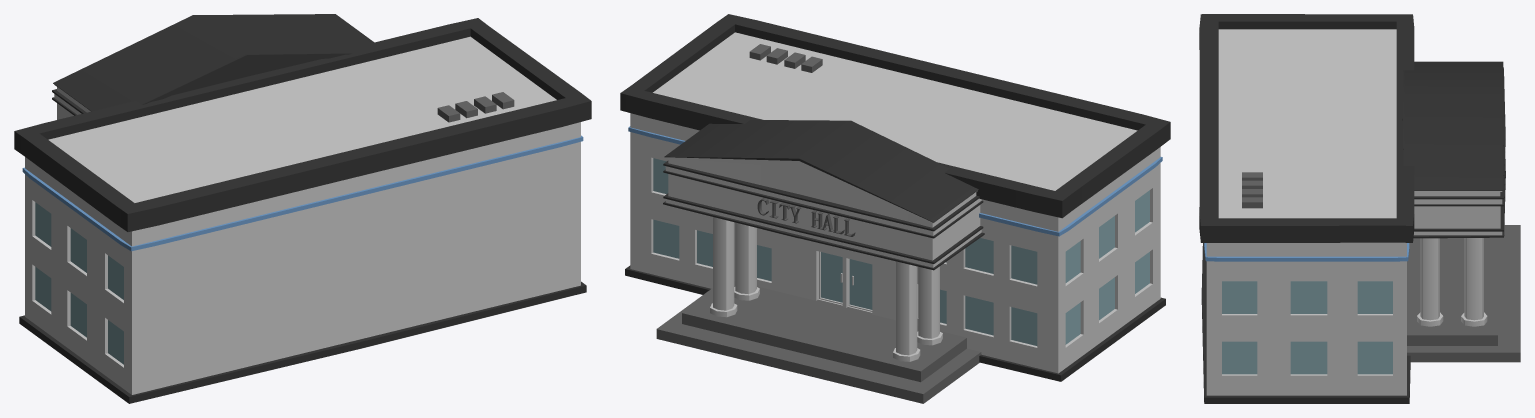
File: cityhall.fbx
3 views of the same model, side by side, from view 1: azimuth 30°, elevation 25°; view 2: azimuth 150°, elevation 25°; view 3: azimuth 270°, elevation 25° (orthographic). The views are drawn at different scales.
Visible parts, largest first — view 1: node_id10 (×4), node_id9 (×3), node_id14; view 2: node_id10 (×4), node_id9 (×3), node_id14 (×2), node_id11, node_id13, node_id12, node_id16, node_id17, node_id70; view 3: node_id9 (×4), node_id10 (×2), node_id14 (×2), node_id11, node_id12, node_id17.
Part boxes in pixels (x1=…): node_id10 (×4): x1=14, y1=76, x2=360, y2=403; node_id9 (×3): x1=248, y1=18, x2=591, y2=349; node_id14: x1=52, y1=14, x2=373, y2=115; node_id10 (×4): x1=843, y1=67, x2=1170, y2=381; node_id9 (×3): x1=620, y1=14, x2=950, y2=307; node_id14 (×2): x1=663, y1=120, x2=984, y2=270; node_id11: x1=656, y1=281, x2=981, y2=403; node_id13: x1=893, y1=261, x2=920, y2=361; node_id12: x1=710, y1=217, x2=737, y2=317; node_id16: x1=917, y1=266, x2=942, y2=345; node_id17: x1=734, y1=222, x2=759, y2=300; node_id70: x1=757, y1=198, x2=855, y2=236; node_id9 (×4): x1=1199, y1=119, x2=1414, y2=403; node_id10 (×2): x1=1199, y1=14, x2=1414, y2=292; node_id14 (×2): x1=1402, y1=61, x2=1505, y2=238; node_id11: x1=1407, y1=225, x2=1520, y2=362; node_id12: x1=1461, y1=238, x2=1487, y2=326; node_id17: x1=1417, y1=238, x2=1443, y2=326.
Bounding box in the file's own units: 0.512 × 0.2288 × 0.3276.
